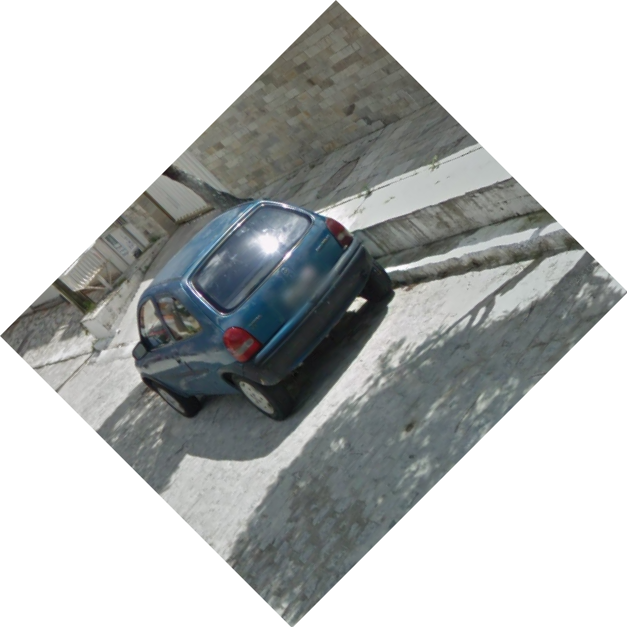car: (131, 195, 396, 420)
